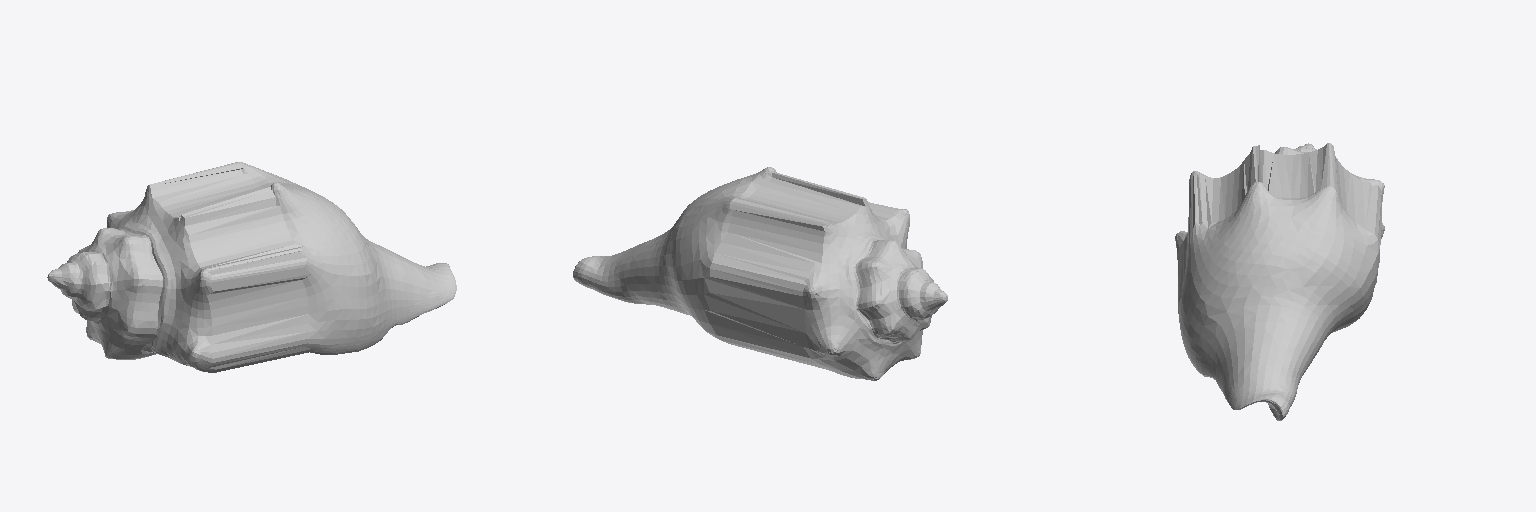
File: 3shell.obj
3 renders of one model, left to right at view 1: azimuth 30°, elevation 25°; view 2: azimuth 150°, elevation 25°; view 3: azimuth 270°, elevation 25°, orthographic.
Visible parts, largest first — view 1: Seashell02; view 2: Seashell02; view 3: Seashell02.
Part boxes in pixels (x1,y1,x2,y2): Seashell02: (47, 162, 456, 372); Seashell02: (573, 167, 947, 380); Seashell02: (1175, 143, 1384, 420).
Bounding box in the file's own units: 7.22 × 2.78 × 3.38.